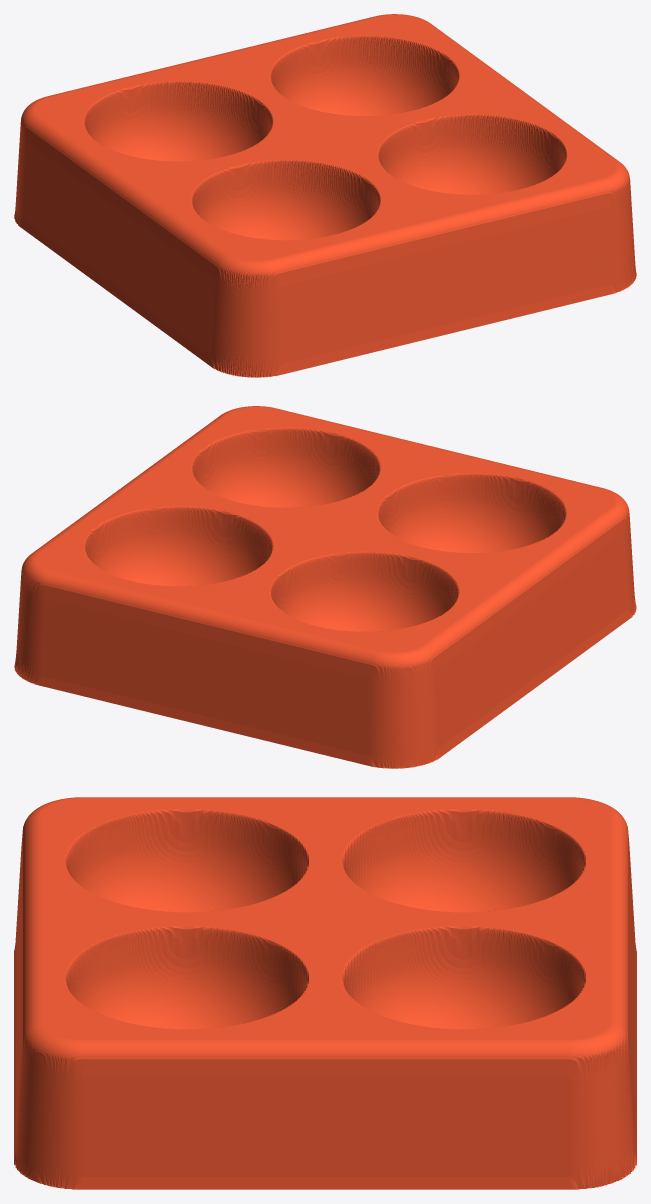
File: mold.glb
3 views of the same model, one above another, from view 1: azimuth 30°, elevation 25°; view 2: azimuth 150°, elevation 25°; view 3: azimuth 270°, elevation 25° (orthographic). The views are drawn at different scales.
Parts seen in each view (by area): view 1: geometry_0; view 2: geometry_0; view 3: geometry_0.
Boxes of the visible parts, x1,y1,x2,y2 form: geometry_0: (14, 14, 636, 377); geometry_0: (14, 406, 636, 768); geometry_0: (14, 797, 636, 1189).
Bounding box in the file's own units: 0.0828 × 0.0204 × 0.0828.
